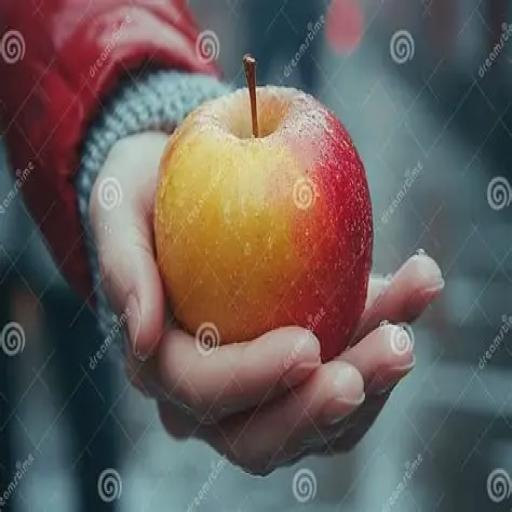apple: (155, 59, 372, 360)
